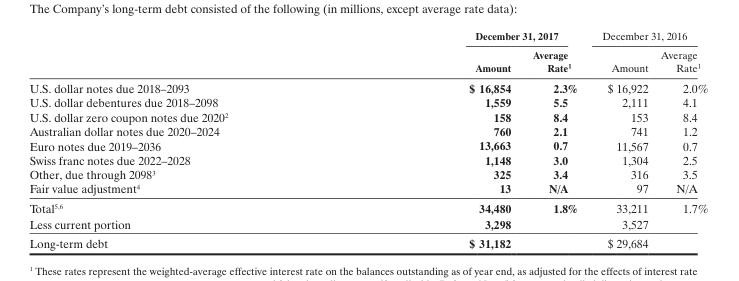table: (28, 29, 707, 249)
table column: (28, 29, 347, 249), (347, 29, 521, 249), (521, 29, 588, 249), (588, 29, 653, 249), (653, 29, 707, 249)
table column header: (28, 29, 707, 77)
table row: (28, 45, 707, 77), (28, 77, 707, 95), (28, 215, 707, 233), (28, 181, 707, 198), (28, 198, 707, 215), (28, 29, 707, 45), (28, 233, 707, 249), (28, 123, 707, 138), (28, 166, 707, 181), (28, 95, 707, 109), (28, 109, 707, 123), (28, 138, 707, 152), (28, 152, 707, 166)
table spanning cell: (347, 29, 588, 45), (588, 29, 707, 45)
